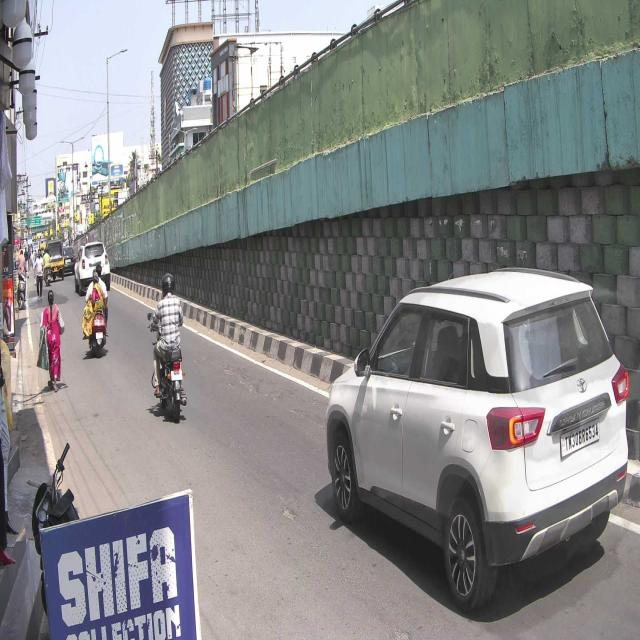single_rider: (146, 272, 188, 422)
